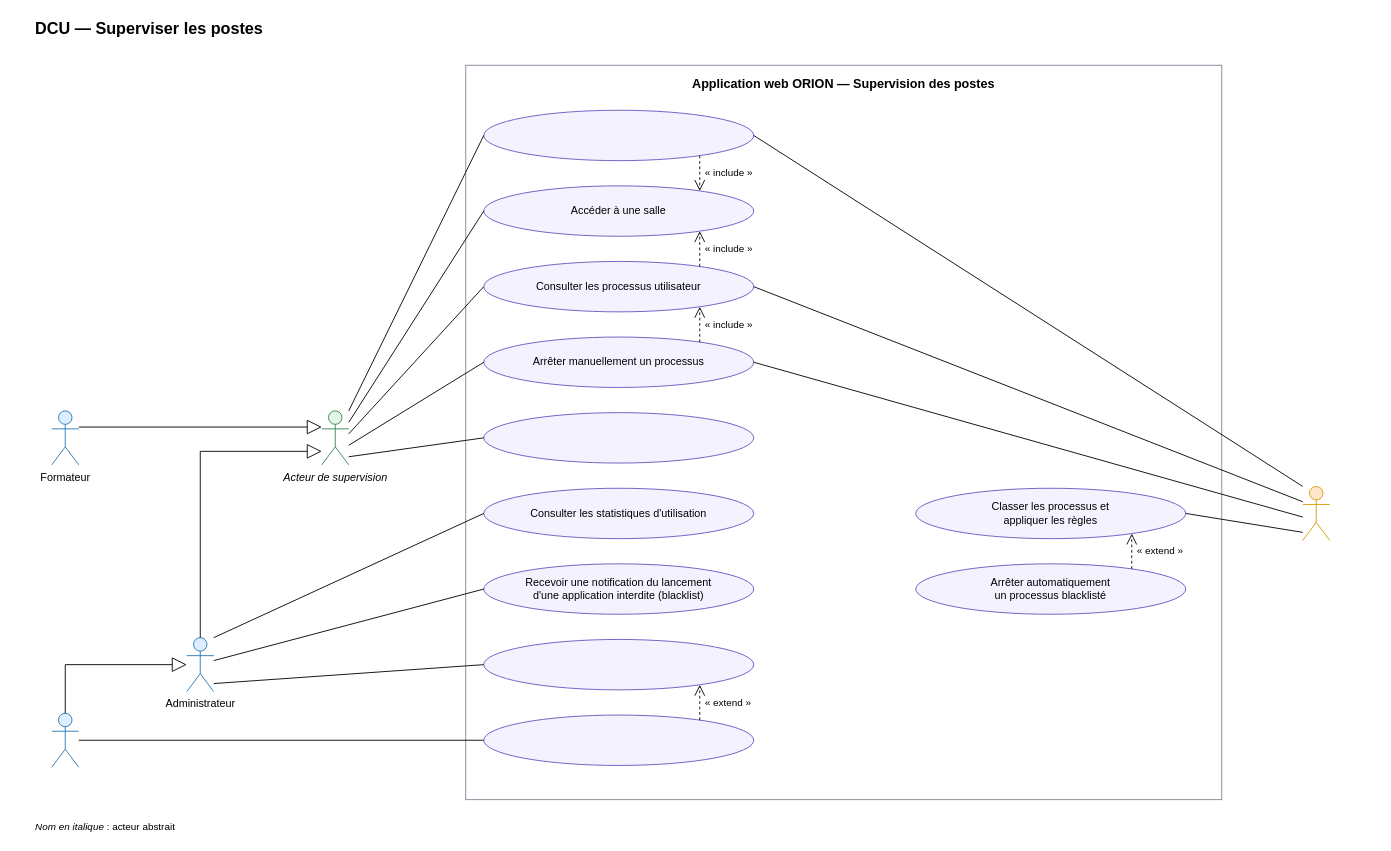
Some shapes in this 1391 by 851 pixel diagram are drawn without their labels. Each missing label, with the centre of its shape:
"Consulter l'état des postes, leur adresse IP et leur système d'exploitation" belongs at point 618,135.
"Consulter les détections de processus d'une salle" belongs at point 618,437.
"Gérer la whitelist et la blacklist" belongs at point 618,664.
"Gérer les règles globales" belongs at point 618,739.
"Super administrateur" belongs at point 65,739.
"« système » Solution d’administration à distance des postes" belongs at point 1316,513.
